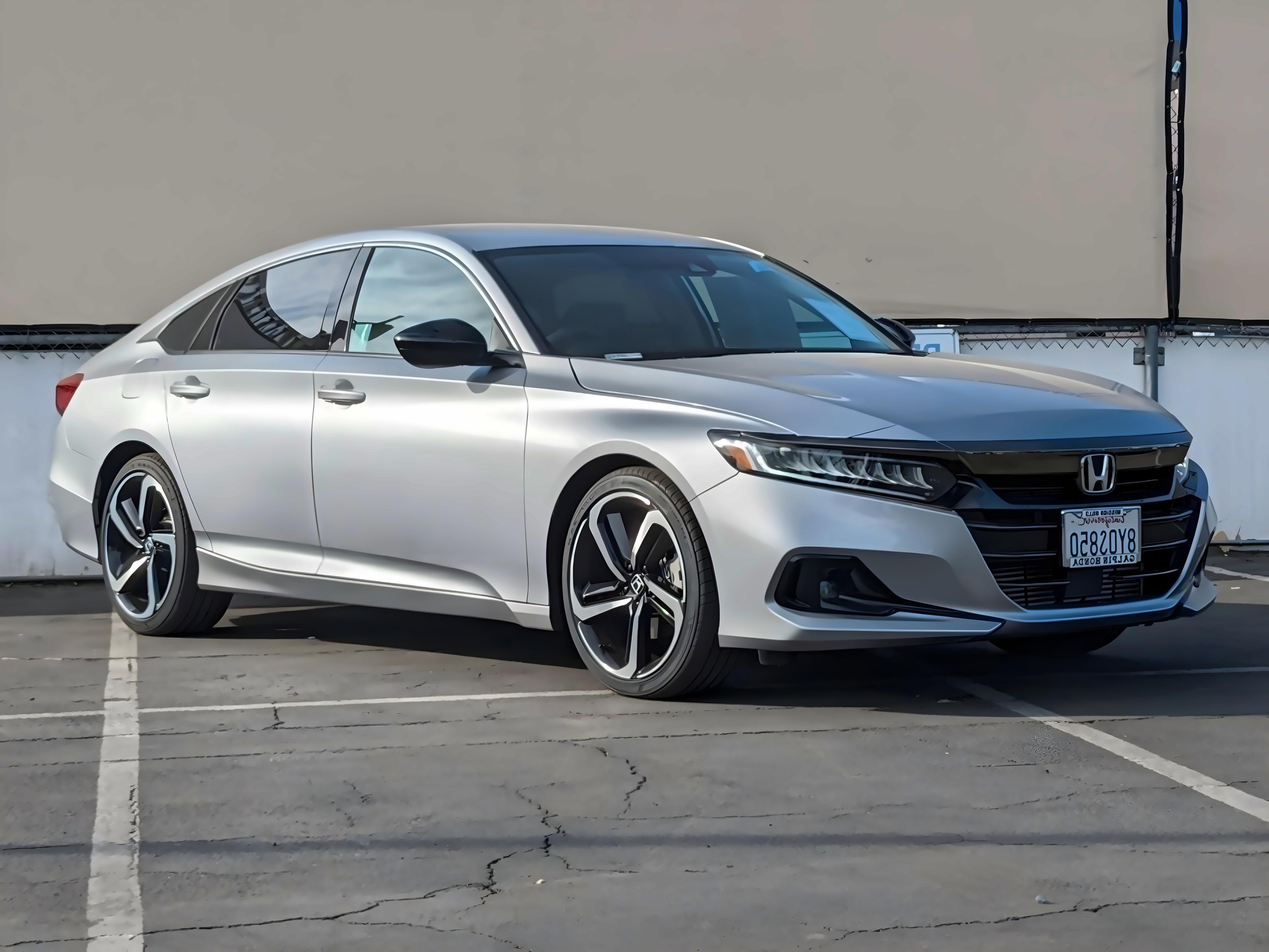Car hood: (556, 350, 1200, 453)
Driver-s door - -F-R-: (301, 217, 538, 637)
Fender - -F-R-: (512, 346, 738, 643)
Fender - -R-R-: (59, 272, 219, 564)
Front bumper: (682, 461, 1223, 664)
Headlight - -R-: (703, 424, 964, 513)
Passenger-s door - -R-R-: (145, 215, 367, 641)
Rear bumper: (41, 418, 121, 573)
Rear light - -R-: (53, 373, 83, 426)
Side bumper - -R-: (174, 525, 556, 653)
Side mirror - -R-: (392, 319, 530, 370)
